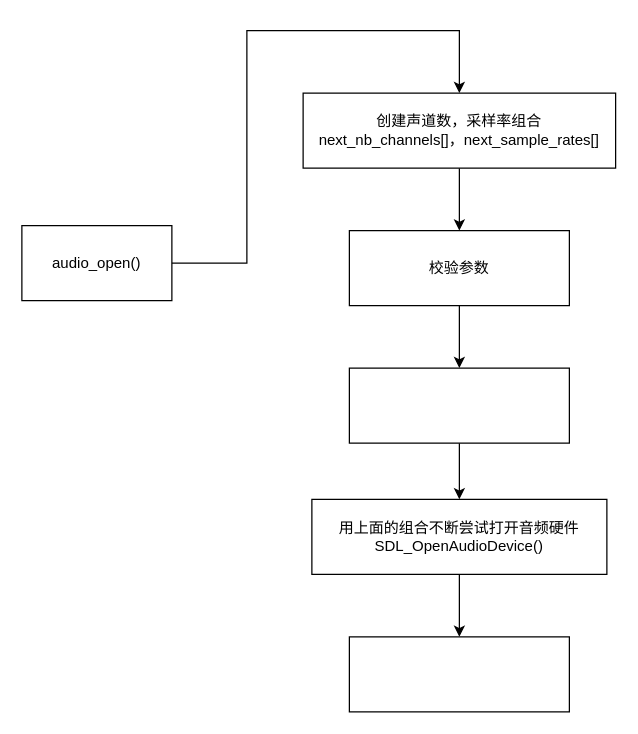
Image size: 638x734. Some labels were removed from this diagram. Each missing label, with the centre of its shape:
"记录打开的硬件设备参数 audio_hw_params" belongs at (458,674).
"设置SDL回调 sdl_audio_callback" belongs at (458,405).
